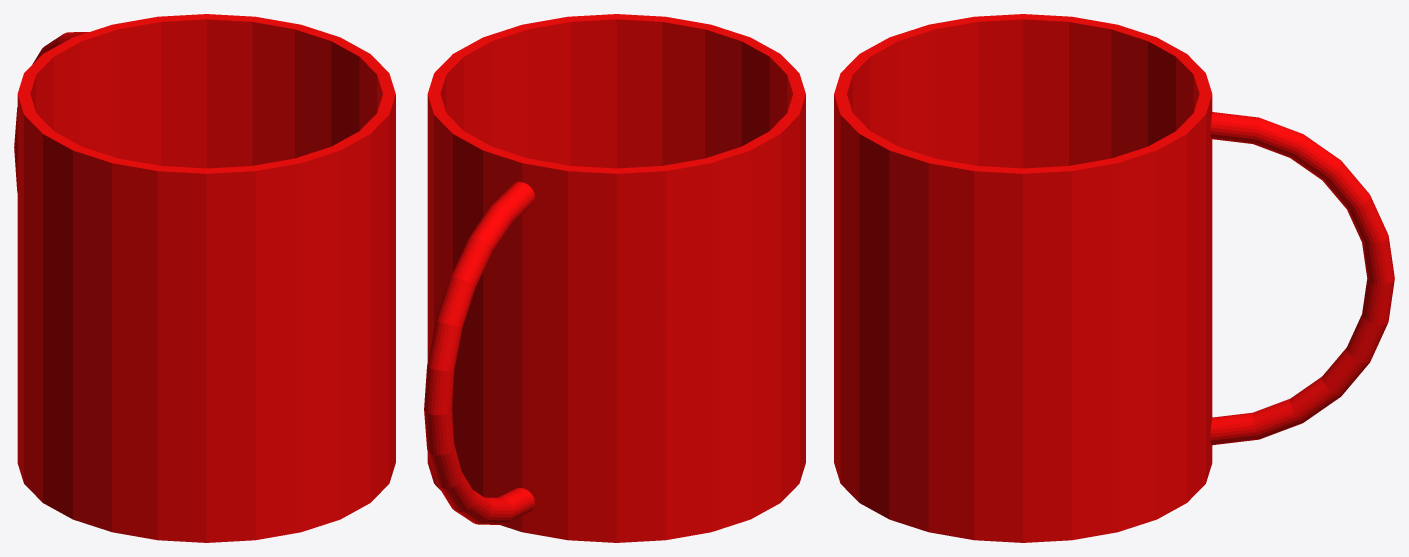
3 views of the same model, side by side, from view 1: azimuth 30°, elevation 25°; view 2: azimuth 150°, elevation 25°; view 3: azimuth 270°, elevation 25° (orthographic).
Bounding box in the file's own units: 0.4791 × 0.5158 × 0.7102.
